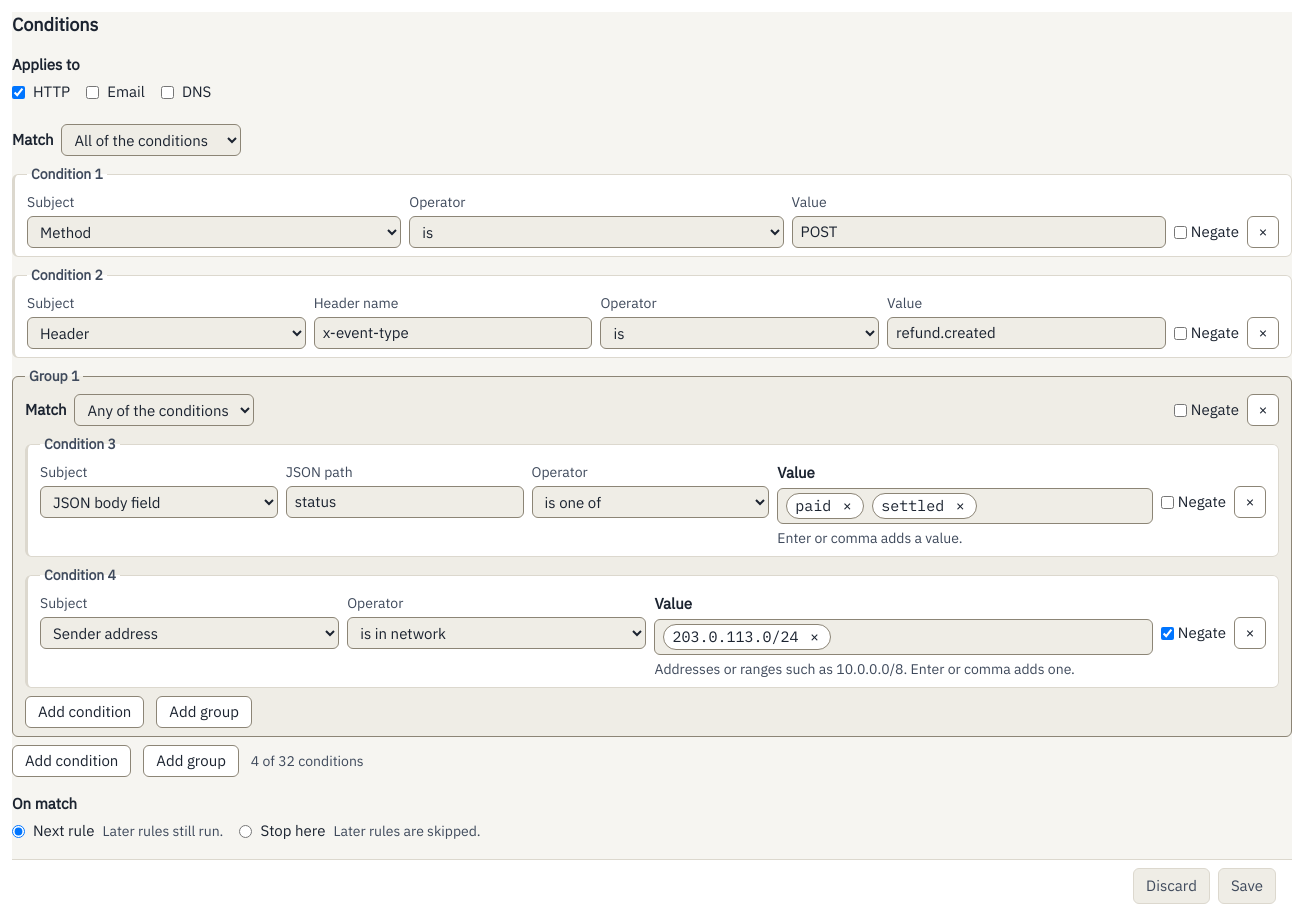
RuleConditionsEditor › saves the serialised draft with the version it started from and then reads as clean
Expected: the button "Save" is disabled, left=1218, top=868, right=1276, bottom=904
Step 1. Replace the text in the 1st field labelled "Value" with "PUT" → (979, 232), box left=792, top=216, right=1166, bottom=248
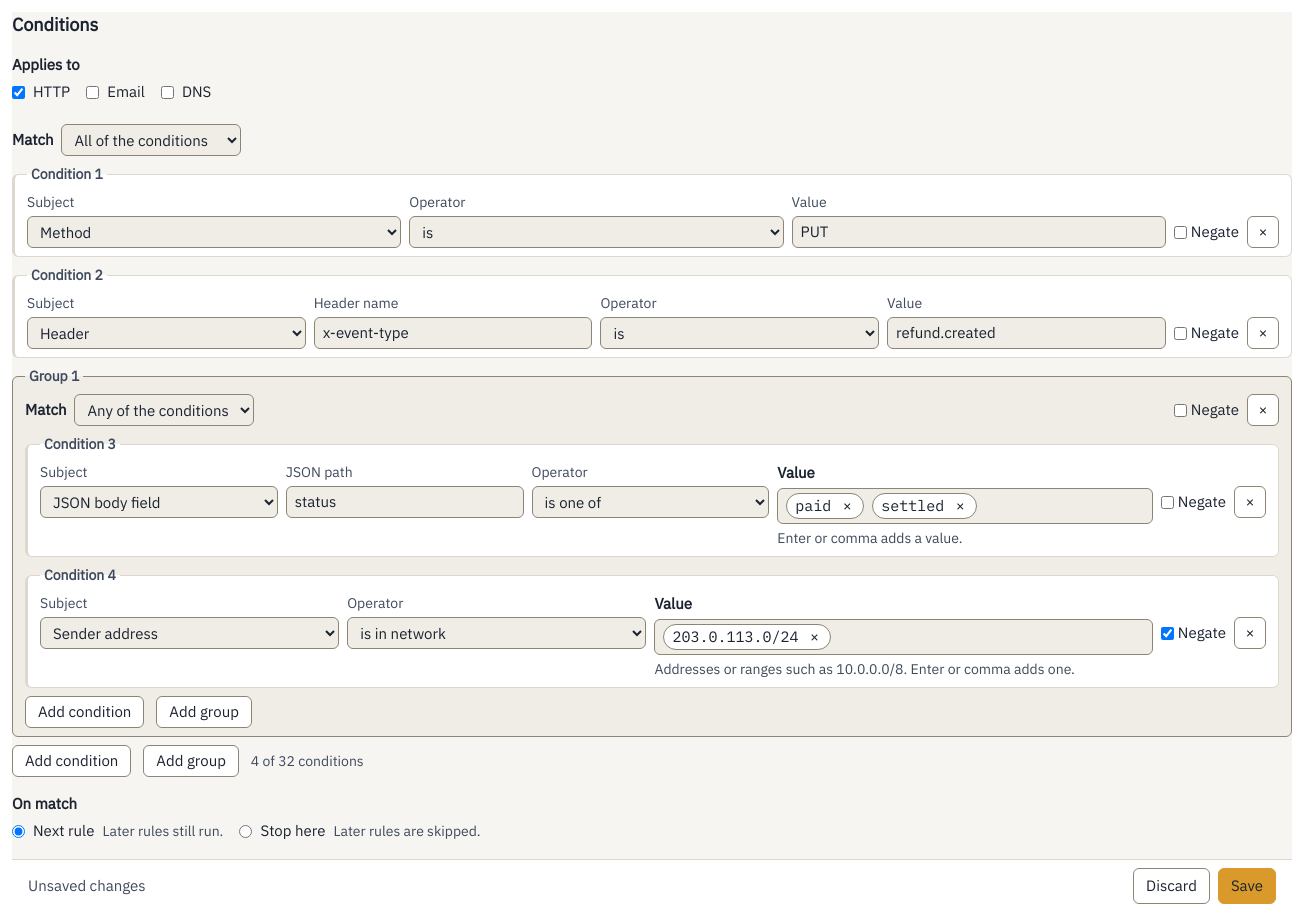
Step 2. Click the radio button labelled "Stop here Later rules are skipped." → (246, 831), box left=239, top=824, right=252, bottom=838
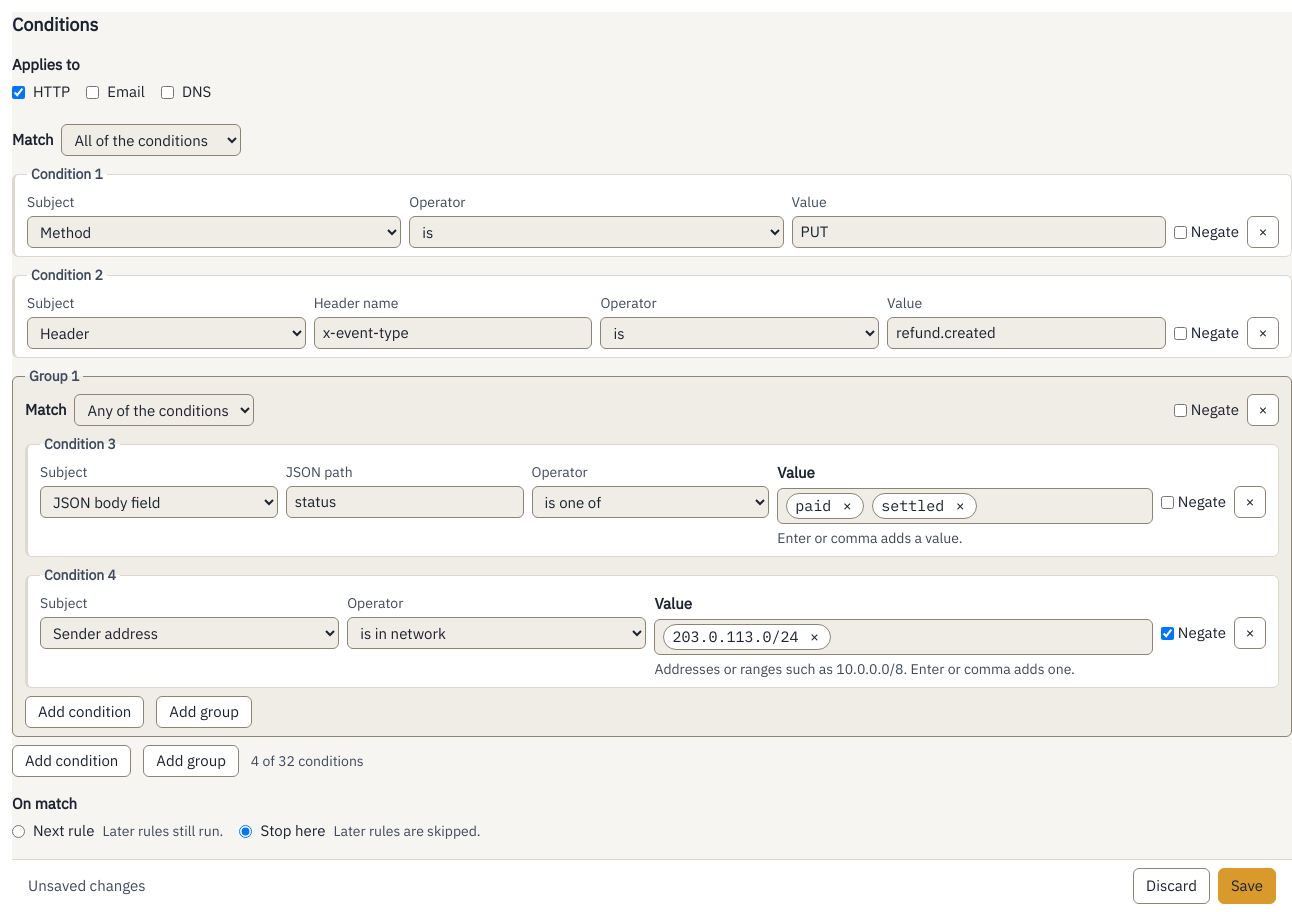
Step 3. Click the button "Save" → (1247, 886), box left=1218, top=868, right=1276, bottom=904
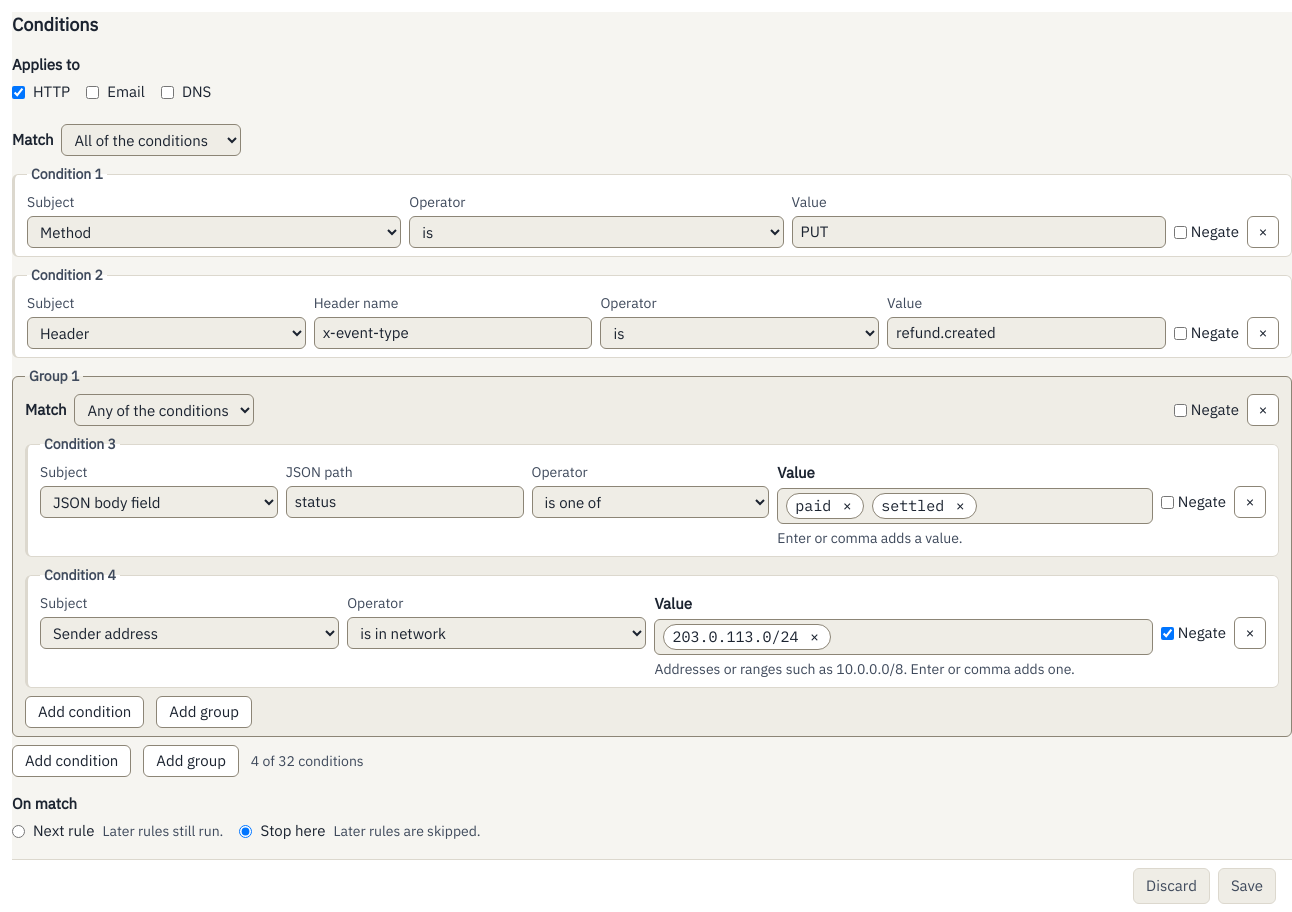
Expected: the button "Save" is disabled, left=1218, top=868, right=1276, bottom=904
